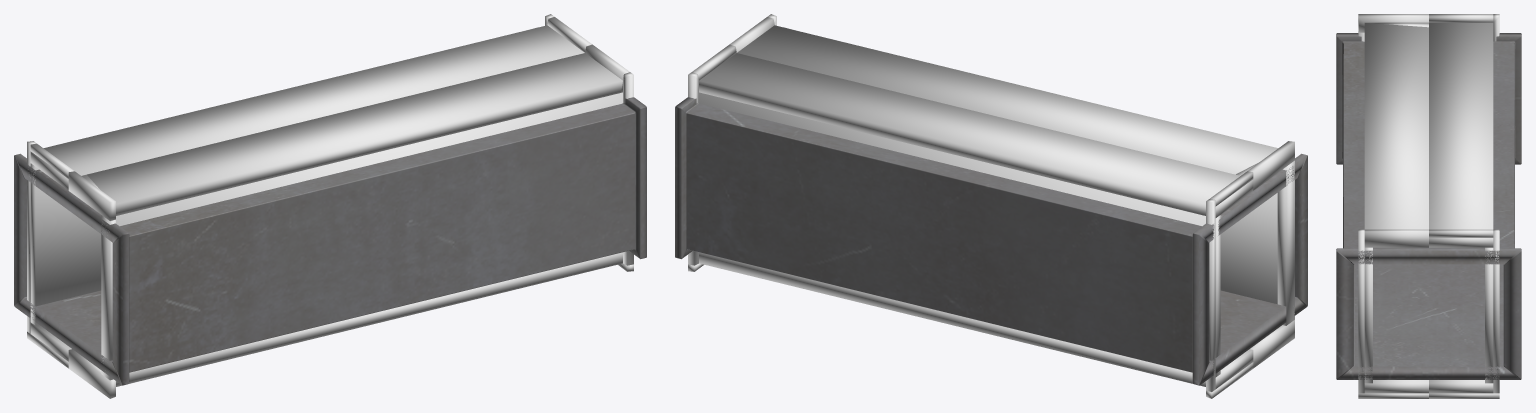
File: SM_Vent_Basic.fbx
The picture shows the model from 3 angles, left to right: view 1: azimuth 30°, elevation 25°; view 2: azimuth 150°, elevation 25°; view 3: azimuth 270°, elevation 25°; orthographic projection. The views are drawn at different scales.
Visible parts, largest first — view 1: SM_Vent_Basic, SM_Vent_Basic_ConvexHulls; view 2: SM_Vent_Basic, SM_Vent_Basic_ConvexHulls; view 3: SM_Vent_Basic_ConvexHulls, SM_Vent_Basic.
Boxes of the visible parts, left/top/right/bottom form: SM_Vent_Basic: left=14, top=27, right=646, bottom=385; SM_Vent_Basic_ConvexHulls: left=27, top=14, right=633, bottom=398; SM_Vent_Basic: left=675, top=27, right=1307, bottom=385; SM_Vent_Basic_ConvexHulls: left=688, top=14, right=1294, bottom=398; SM_Vent_Basic_ConvexHulls: left=1358, top=14, right=1499, bottom=398; SM_Vent_Basic: left=1336, top=33, right=1521, bottom=379.
Bounding box in the file's own units: 3 × 1.07 × 1.08.
